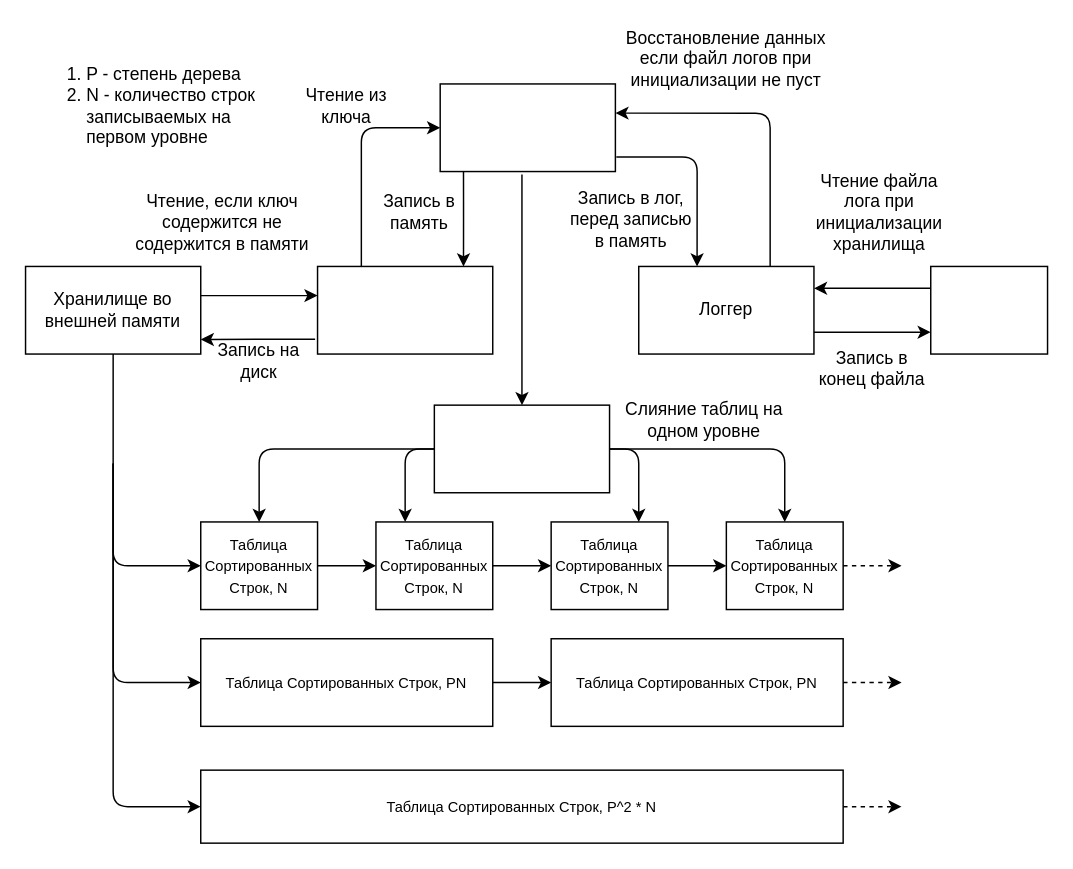
The diagram is 1073 pixels wide and 869 high, and some of its shapes have lost their labels. Here are the shapes that lost their labels. From the top down, the box of each, then its label:
(439, 82, 615, 172): Хранилище
(316, 265, 493, 354): Хранилище в оперативной памяти
(929, 265, 1048, 354): Файл логов
(433, 404, 610, 493): Модуль слияния
